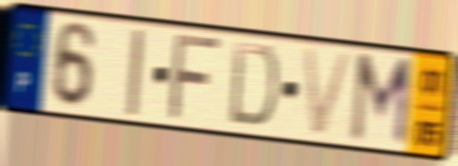6: (49, 19, 98, 113)
D: (226, 38, 281, 132)
F: (165, 32, 227, 124)
I: (124, 26, 147, 119)
M: (347, 50, 416, 152)
V: (299, 44, 358, 141)
